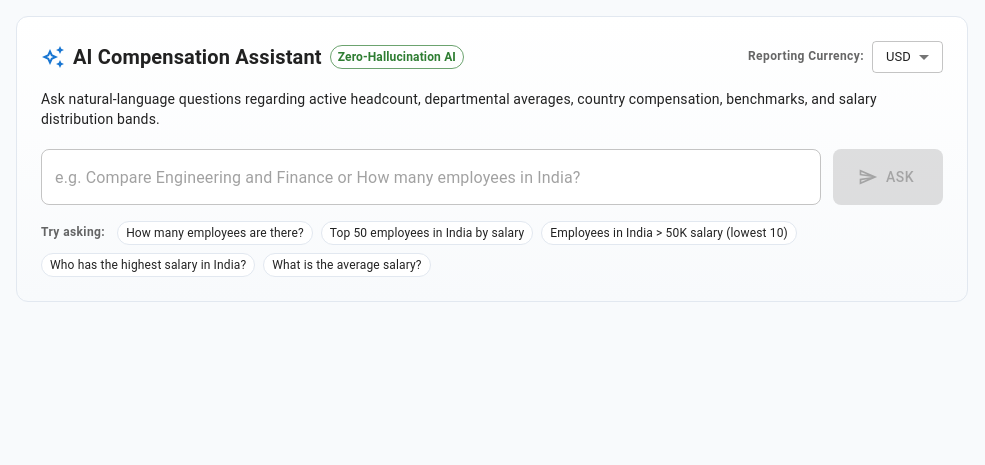
Test: CompensationAssistant Component › submits a typed question and displays answer with verified badge
The image size is (985, 465).
Type "How many employees are there?" into the field with placeholder "e.g. Compare Engineering and Finance" at x=431, y=177, box [41, 149, 821, 205]
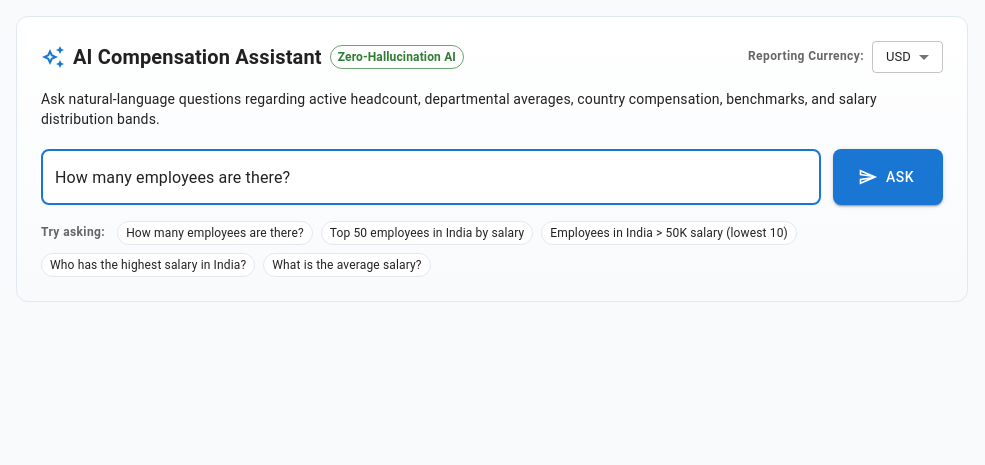
Click the button "Ask" at x=888, y=177, box [833, 149, 943, 205]
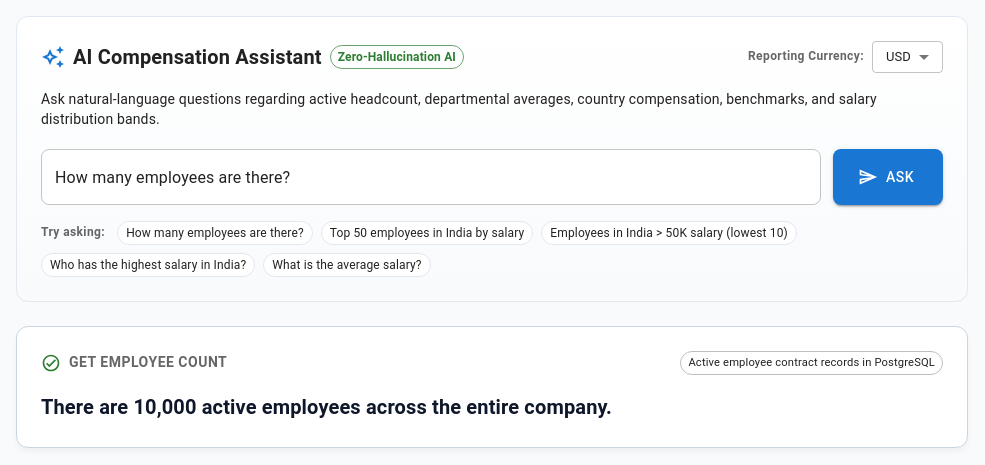
Now the heading "There are 10,000 active employees across the entire company." is shown, box [41, 395, 612, 419]
Now the heading "get employee count" is shown, box [69, 352, 227, 374]
Now the text "Active employee contract records in PostgreSQL" is shown, box [681, 355, 942, 371]
